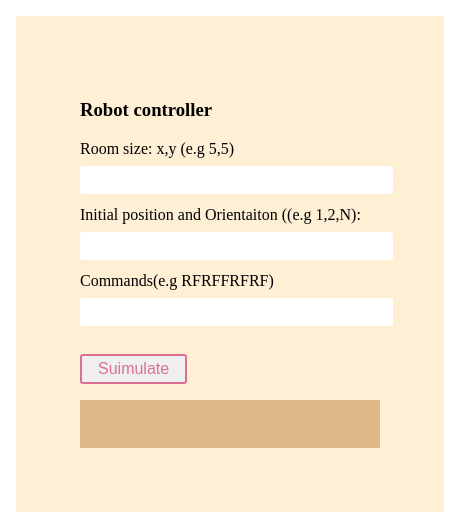
Test case: RobotController › should have the right message in the result section after a valid simulation
// give input of 5,5 to room size input
Type "5,5" into the field named "room-size" at (237, 180), box [80,166,393,194]
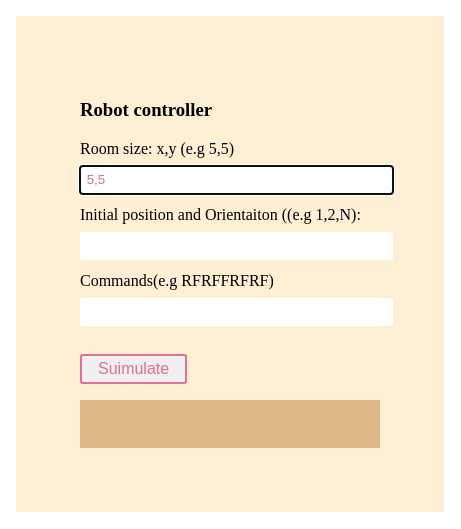
// give input of 1,2,N to room size input
Type "1,2,N" into the field named "initial-position" at (237, 246), box [80,232,393,260]
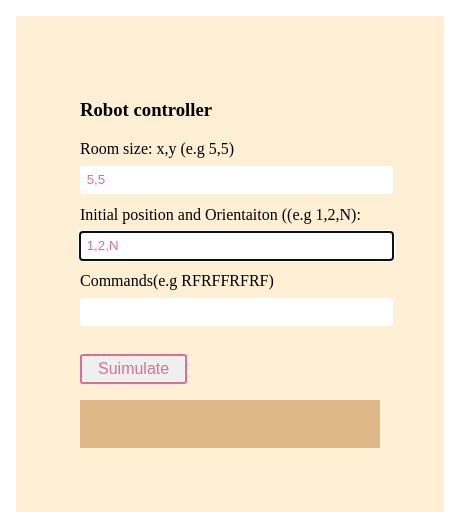
// give input of RFRFFRFRF to command input
Type "RFRFFRFRF" into the field named "command" at (237, 312), box [80,298,393,326]
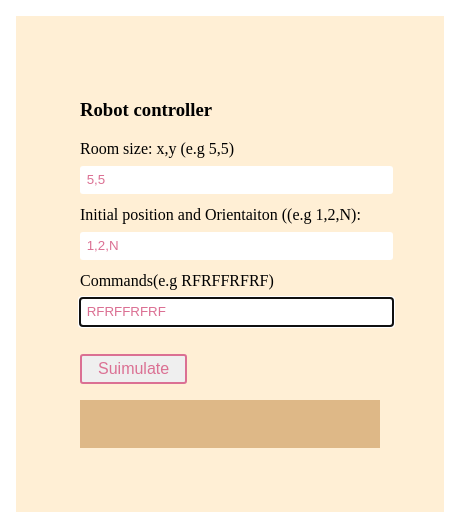
// click the submit button
Click the button with test id "submit" at (134, 369), box [80,354,187,384]
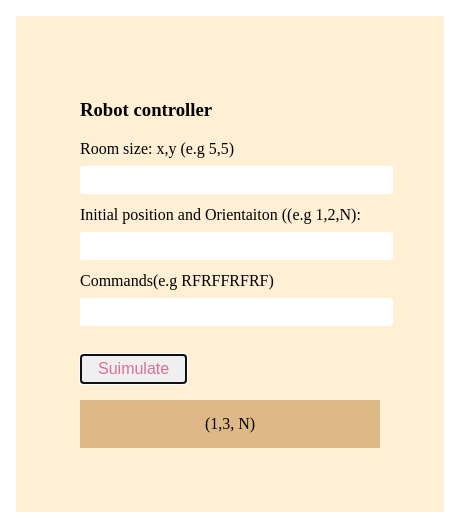
Expected: the text named "result" reads "(1,3, N)", [205,415,255,432]
